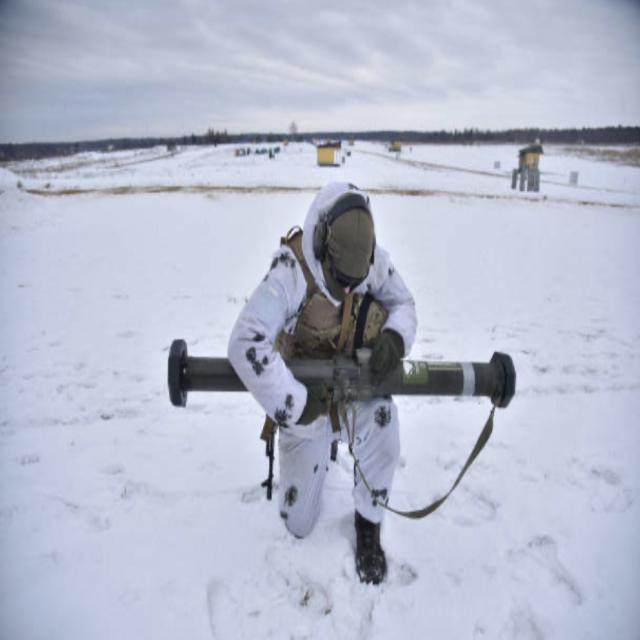bazooka: (165, 334, 525, 421)
